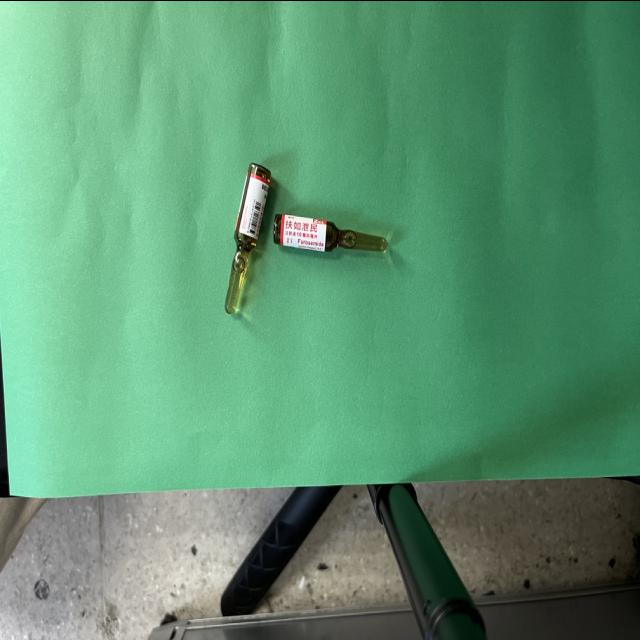Ampoules: (225, 163, 271, 313), (274, 214, 388, 251)
